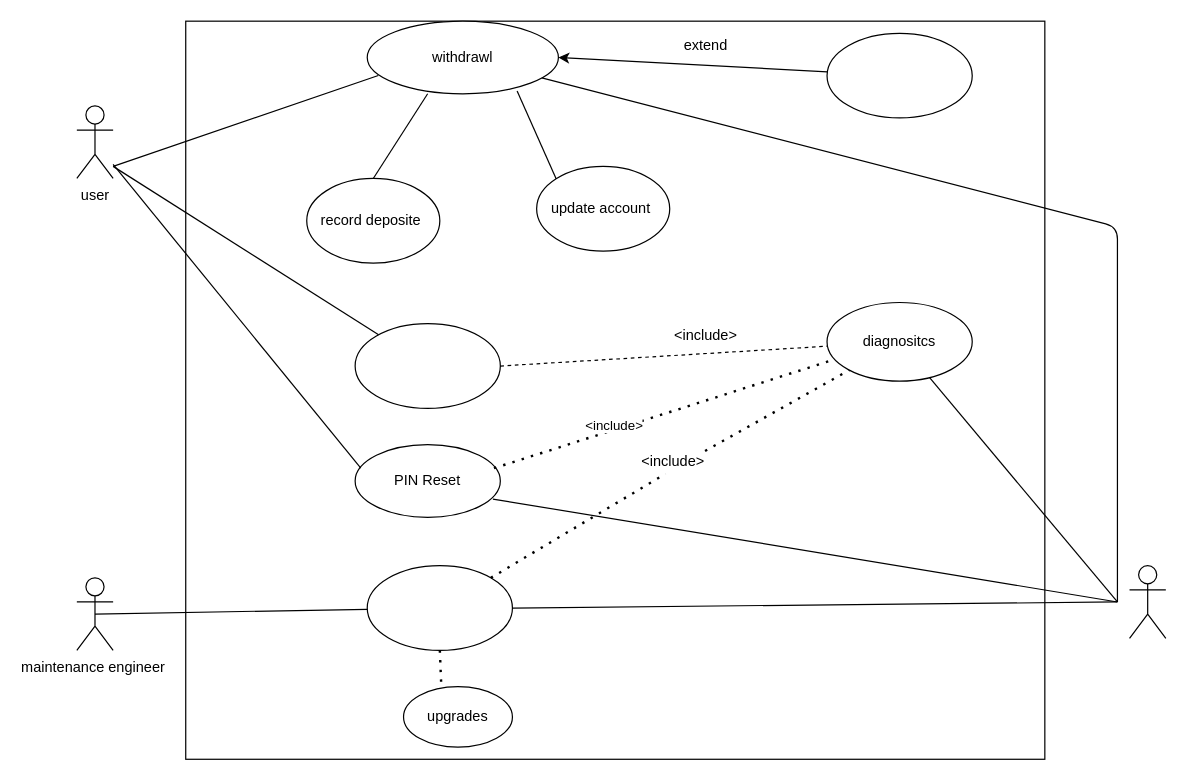
Image size: 1188x780. Some labels were removed from this diagram. The shapes that lost their labels are listed below. From the top down, each one's centre as x and y in pixels, then its label:
At (x=899, y=75): "print receipt".
At (x=427, y=365): "balance inquiry".
At (x=439, y=607): "maintanance".
At (x=1147, y=601): "server".
